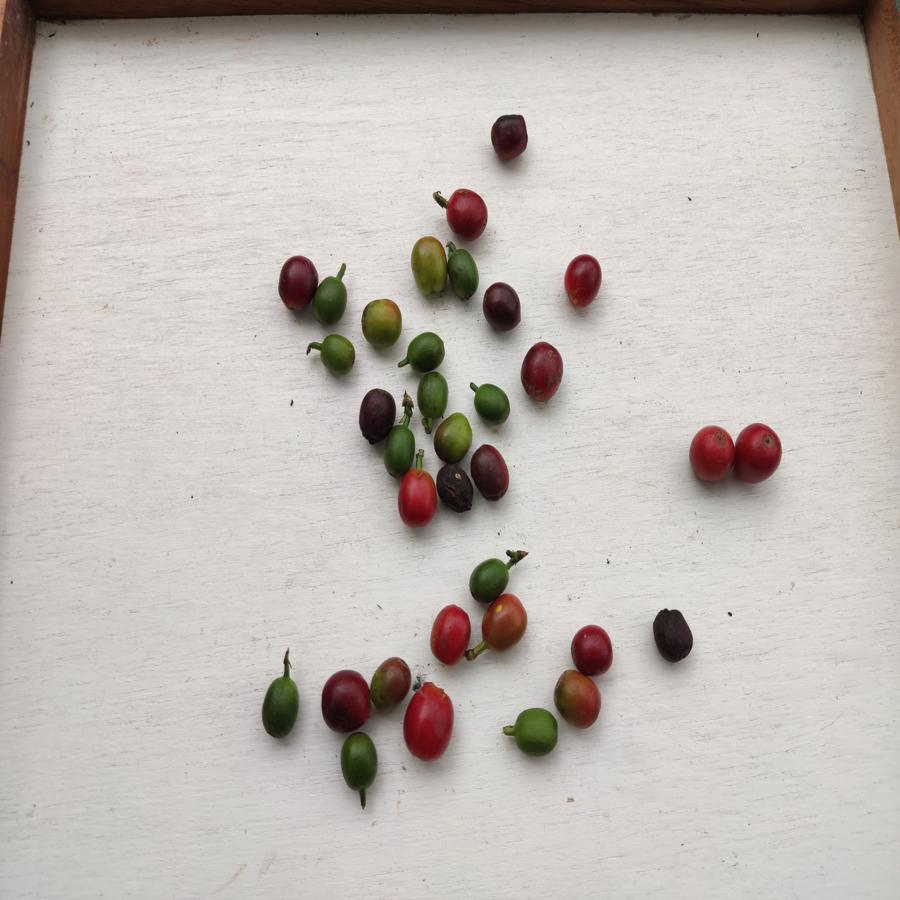Inmaduro: (258, 675, 303, 738), (338, 734, 380, 793), (511, 706, 559, 757), (434, 412, 473, 459), (448, 248, 483, 300), (473, 382, 511, 426), (406, 331, 446, 372), (469, 558, 509, 599), (318, 334, 356, 376), (314, 278, 347, 324), (416, 373, 449, 418)
Maduro: (402, 683, 458, 763), (733, 422, 783, 484), (688, 424, 735, 488), (444, 185, 493, 243), (430, 603, 473, 664), (398, 468, 438, 531), (561, 253, 603, 310), (571, 623, 615, 672)
Pinton: (553, 670, 603, 726), (480, 596, 533, 647), (411, 236, 449, 302), (359, 298, 403, 348), (370, 658, 409, 714)
Sobremaduro: (320, 670, 370, 733), (521, 342, 564, 403), (471, 442, 511, 503), (651, 608, 695, 663), (273, 254, 316, 309), (483, 283, 524, 334), (357, 387, 393, 444), (437, 463, 475, 515), (490, 114, 529, 160)
